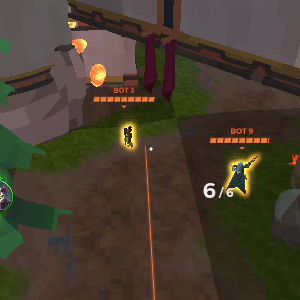model: (230, 156, 256, 195), (122, 122, 135, 152)
